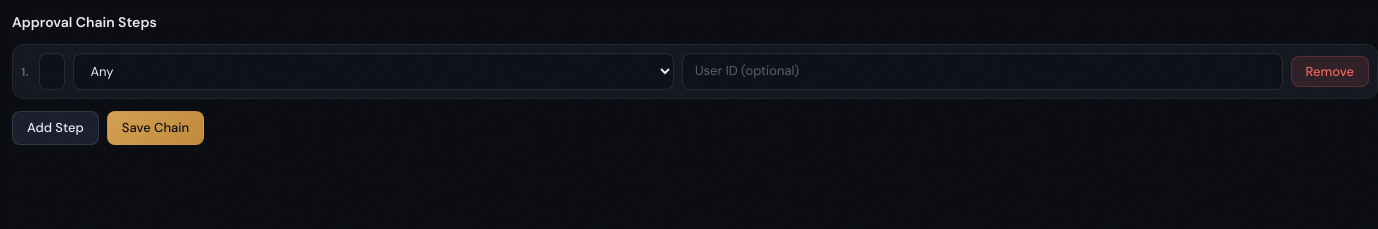
ApprovalChainSettings › add step button adds a row
What coordinates should you click on to do the following:
click the button with test id "add-step-btn"
I would click on:
 (55, 128)
Its box is [12,111,99,144].
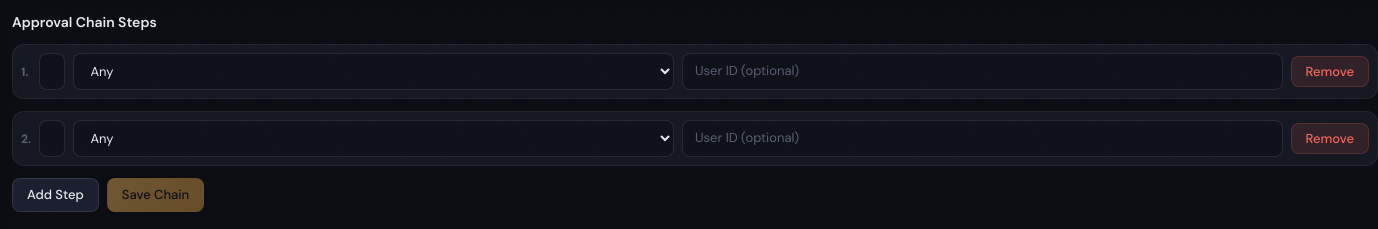
Now the element with test id "chain-settings-step-2" is shown, box [12,111,1377,166]
